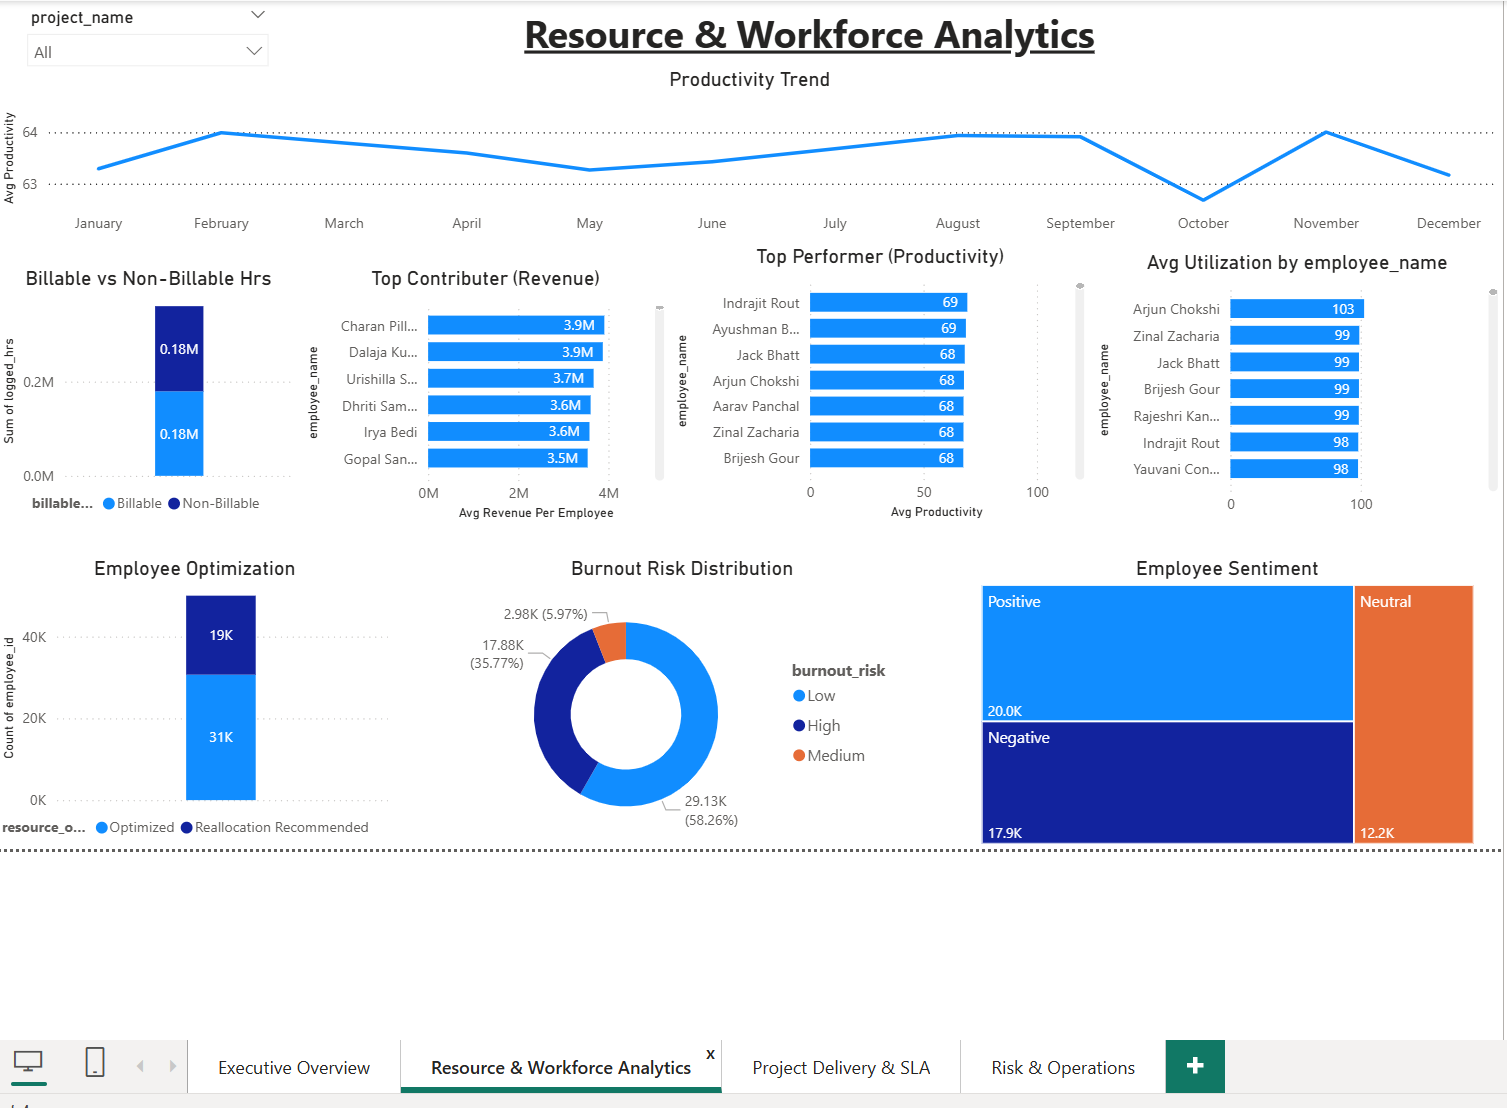

Layout of this report page (visuals, bound fields, positions):
{"tool":"powerbi","page":{"name":"Resource & Workforce Analytics","canvas":[1280,720],"ordinal":1},"visuals":[{"type":"barChart","fields":{"Category":["enterprise_analytics employees.employee_name"],"Y":["enterprise_analytics timesheets.Avg Utilization"]},"box":[929.4,210.9,350.1,233.4],"z":0},{"type":"donutChart","title":"Burnout Risk Distribution","fields":{"Category":["enterprise_analytics timesheets.burnout_risk"],"Y":["CountNonNull(enterprise_analytics timesheets.employee_id)"]},"box":[388.1,471,388.1,248.9],"z":1000},{"type":"treemap","title":"Employee Sentiment","fields":{"Group":["enterprise_analytics timesheets.employee_sentiment"],"Values":["CountNonNull(enterprise_analytics timesheets.employee_id)"]},"box":[831,471,427.5,248.9],"z":2000},{"type":"columnChart","title":"Employee Optimization","fields":{"Y":["CountNonNull(enterprise_analytics timesheets.employee_id)"],"Series":["enterprise_analytics timesheets.resource_optimization"]},"box":[0,471,337.5,248.9],"z":3000},{"type":"textbox","box":[443.5,0,520.6,56.5],"z":4000},{"type":"lineChart","title":"Productivity Trend","fields":{"Category":["DateTable.Date.Variation.Date Hierarchy.Month"],"Y":["enterprise_analytics timesheets.Avg Productivity"]},"box":[0,56.2,1279.5,150.5],"z":5000},{"type":"barChart","title":"Top Contributer (Revenue)","fields":{"Category":["enterprise_analytics employees.employee_name"],"Y":["enterprise_analytics employees.Avg Revenue Per Employee"]},"box":[258.7,225,313.6,219.3],"z":6000},{"type":"columnChart","title":"Billable vs Non-Billable Hrs","fields":{"Y":["Sum(enterprise_analytics timesheets.logged_hrs)"],"Series":["enterprise_analytics timesheets.billable_status"]},"box":[0,225,258.7,219.3],"z":7000},{"type":"barChart","title":"Top Performer (Productivity)","fields":{"Category":["enterprise_analytics employees.employee_name"],"Y":["enterprise_analytics timesheets.Avg Productivity"]},"box":[572.3,206.7,357.1,237.6],"z":8000},{"type":"slicer","fields":{"Values":["enterprise_analytics project.project_name"]},"box":[16.9,0,225,92.8],"z":8001}]}

Visuals, with their boxes on the page's 1280x720 design canvas (x1, y1, x2, y2). These are canvas units, not pixel positions in the 1507x1108 screenshot, which may show the page scaled, cropped or inside an application window:
barChart - enterprise_analytics employees.employee_name x enterprise_analytics timesheets.Avg Utilization: Rect(929, 211, 1280, 444)
"Burnout Risk Distribution" donutChart: Rect(388, 471, 776, 720)
"Employee Sentiment" treemap: Rect(831, 471, 1258, 720)
"Employee Optimization" columnChart: Rect(0, 471, 338, 720)
textbox: Rect(444, 0, 964, 56)
"Productivity Trend" lineChart: Rect(0, 56, 1280, 207)
"Top Contributer (Revenue)" barChart: Rect(259, 225, 572, 444)
"Billable vs Non-Billable Hrs" columnChart: Rect(0, 225, 259, 444)
"Top Performer (Productivity)" barChart: Rect(572, 207, 929, 444)
slicer - enterprise_analytics project.project_name: Rect(17, 0, 242, 93)
